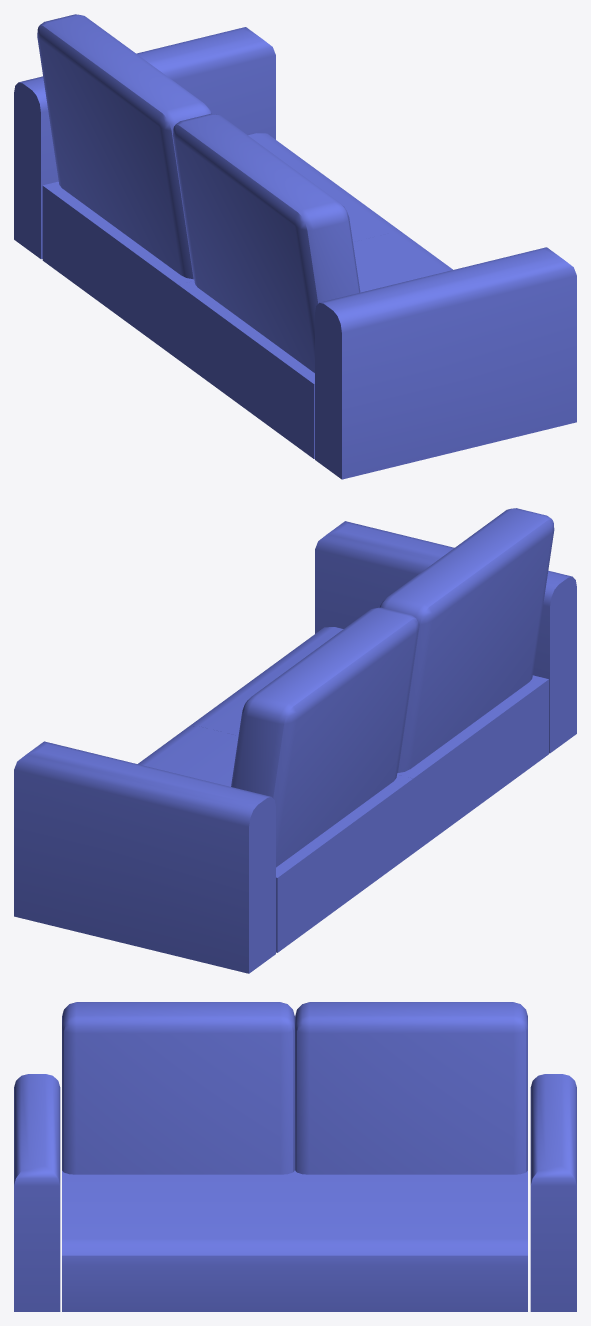
The model's file is sofa 2ppl.fbx.
3 renders of one model, top to bottom at view 1: azimuth 30°, elevation 25°; view 2: azimuth 150°, elevation 25°; view 3: azimuth 270°, elevation 25°, orthographic. The views are drawn at different scales.
Visible parts, largest first — view 1: Cube.039, Cube.041, Cube.043, Cube.038, Cube.042, Cube.040; view 2: Cube.040, Cube.043, Cube.041, Cube.042, Cube.038, Cube.039; view 3: Cube.041, Cube.043, Cube.038, Cube.042, Cube.039, Cube.040.
Boxes of the visible parts, x1,y1,x2,y2 form: Cube.039: (315, 247, 576, 479); Cube.041: (173, 113, 360, 372); Cube.043: (37, 14, 211, 279); Cube.038: (178, 232, 452, 458); Cube.042: (42, 133, 402, 359); Cube.040: (14, 27, 275, 259); Cube.040: (14, 741, 275, 973); Cube.043: (231, 607, 418, 867); Cube.041: (379, 508, 554, 772); Cube.042: (138, 726, 413, 952); Cube.038: (189, 627, 548, 853); Cube.039: (315, 521, 576, 753); Cube.041: (62, 1002, 294, 1174); Cube.043: (295, 1002, 527, 1174); Cube.038: (62, 1170, 294, 1311); Cube.042: (295, 1170, 527, 1311); Cube.039: (14, 1074, 60, 1311); Cube.040: (530, 1074, 576, 1311).
Bounding box in the file's own units: 209 × 199 × 483.
